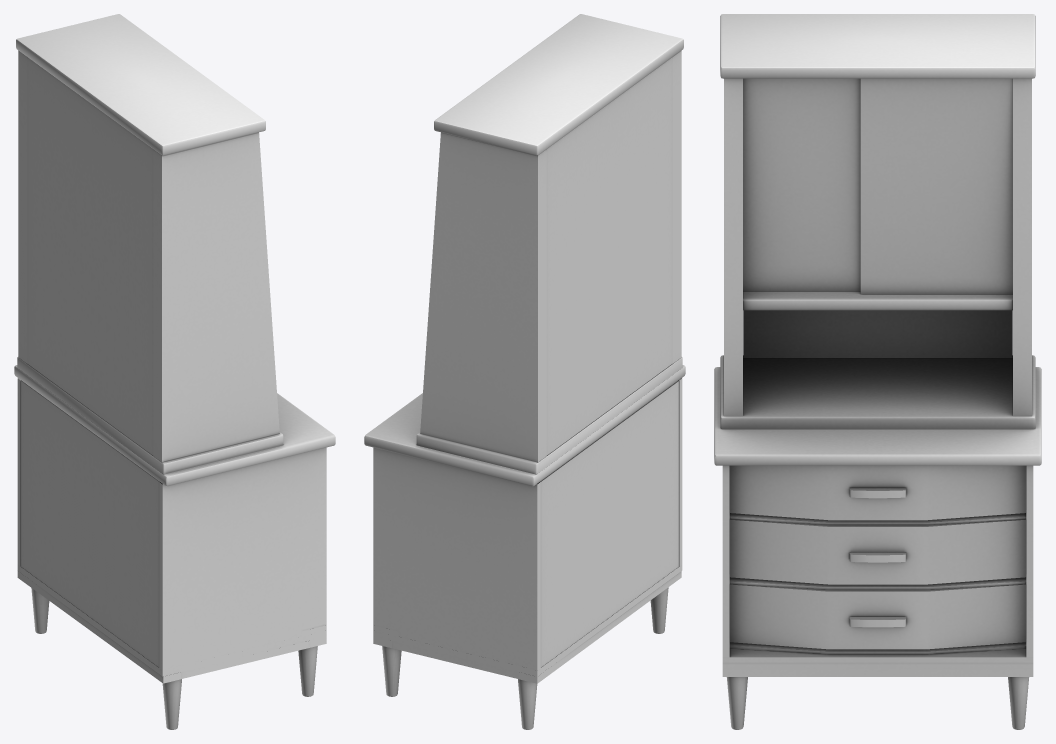
The model's file is Shelf.obj.
3 views of the same model, side by side, from view 1: azimuth 30°, elevation 25°; view 2: azimuth 150°, elevation 25°; view 3: azimuth 270°, elevation 25° (orthographic). The views are drawn at different scales.
Parts seen in each view (by area): view 1: Cube.005_Cube.032; view 2: Cube.005_Cube.032; view 3: Cube.005_Cube.032.
Boxes of the visible parts, bbox=[...] form: Cube.005_Cube.032: bbox=[14, 14, 335, 729]; Cube.005_Cube.032: bbox=[364, 14, 685, 729]; Cube.005_Cube.032: bbox=[714, 14, 1041, 729].
Bounding box in the file's own units: 2.09 × 6.89 × 3.22.
